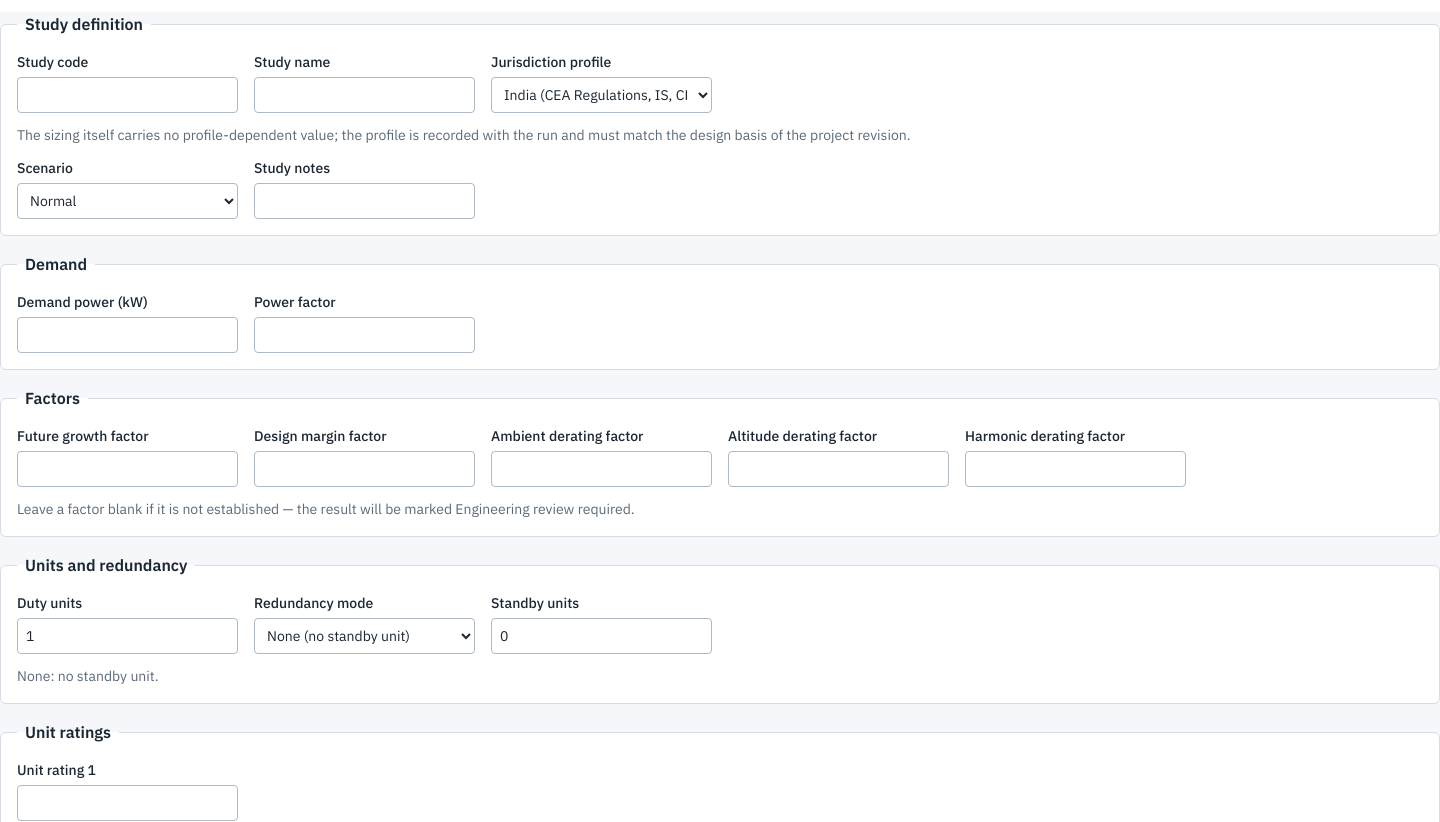
Scenario: TransformerStudyForm › follows the duty units while 2N is chosen
Select "2N (a standby unit for every duty unit)" in the dropdown labelled "Redundancy mode" at (364, 636), box 254,618 -> 475,654
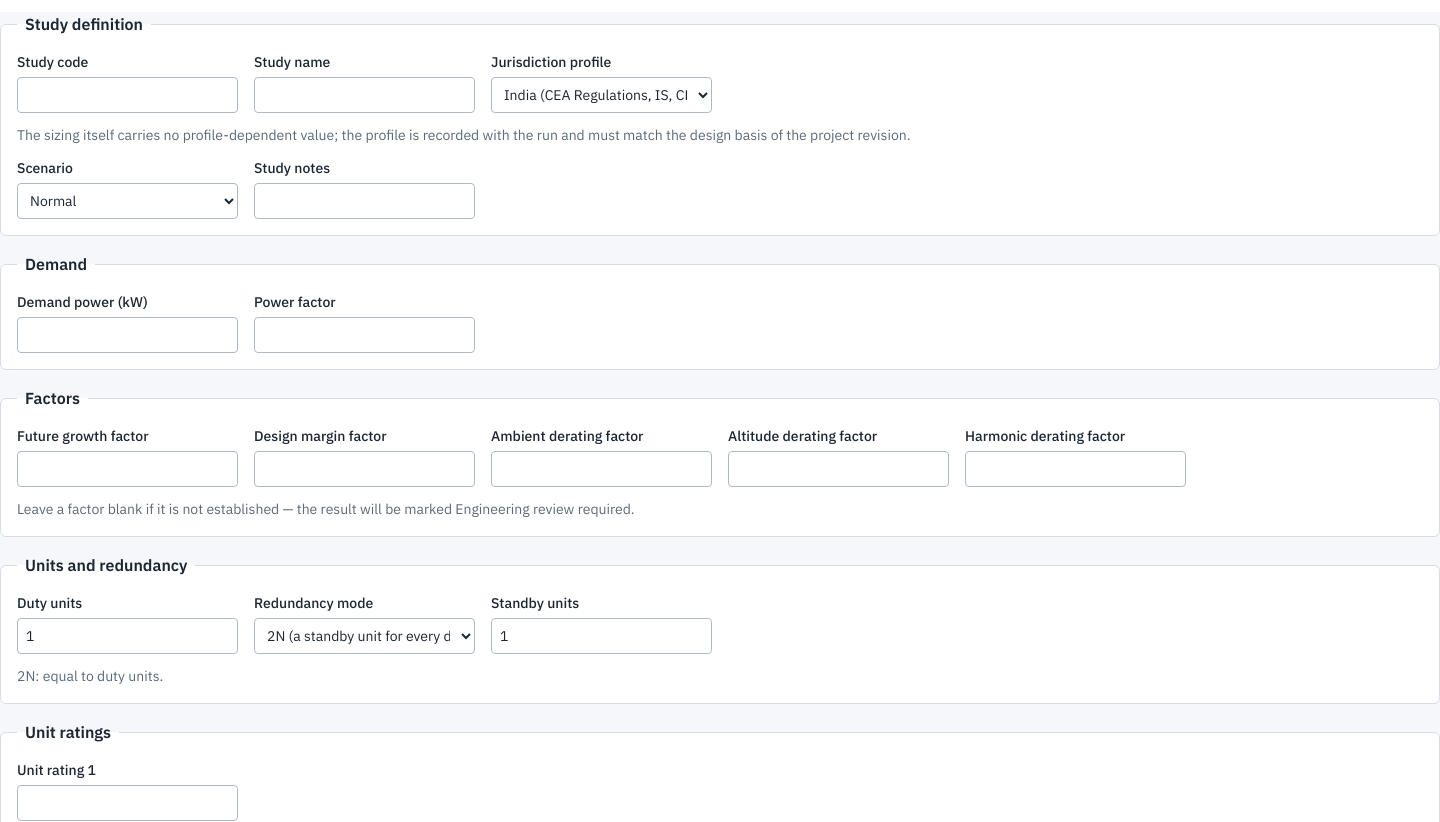
Replace the text in the field labelled "Duty units" with "3" at (128, 636), box 17,618 -> 238,654
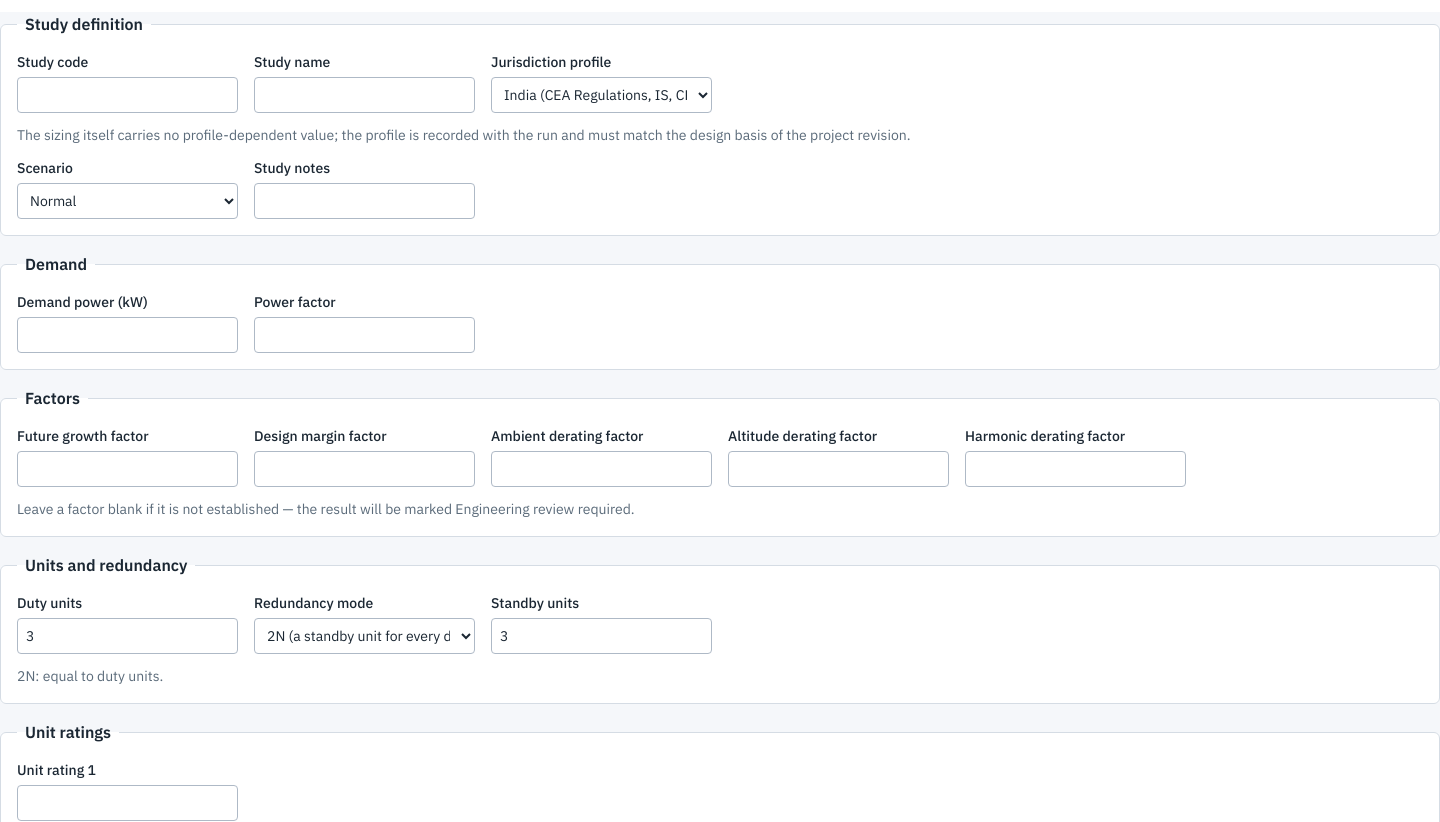
Now the field labelled "Standby units" holds "3", box 491,618 -> 712,654
